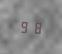eight: (30, 19, 40, 34)
nine: (19, 19, 29, 33)
